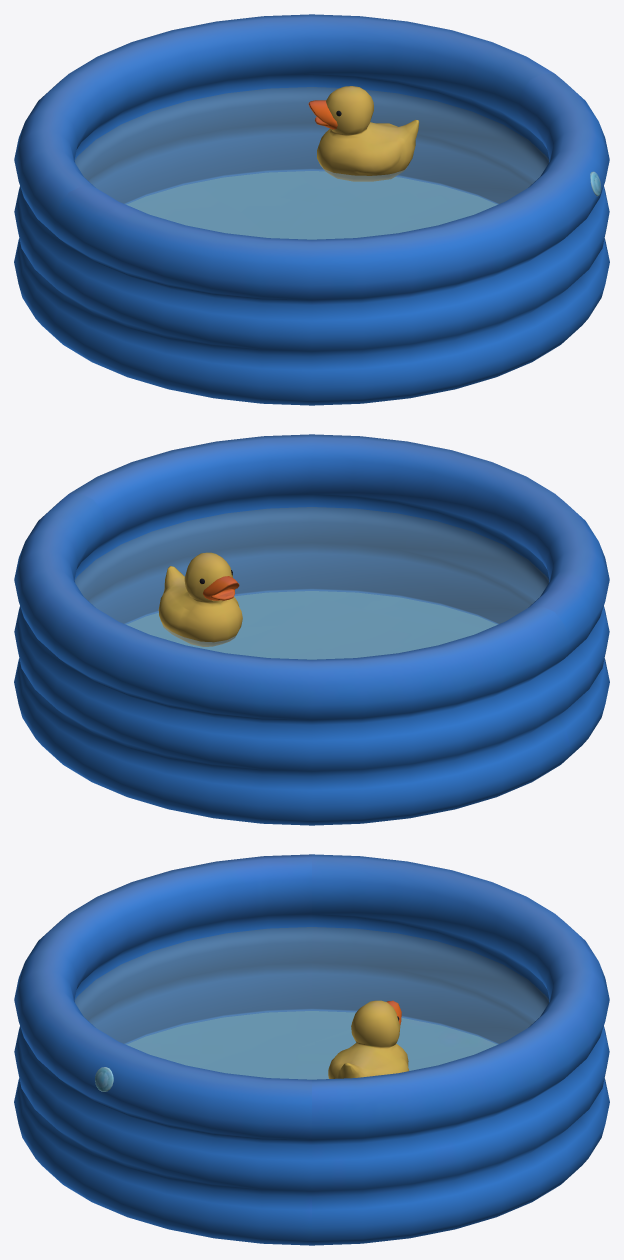
3 renders of one model, top to bottom at view 1: azimuth 30°, elevation 25°; view 2: azimuth 150°, elevation 25°; view 3: azimuth 270°, elevation 25°, orthographic.
Size of the model in its own units: 17.71 by 5.21 by 17.71.
Materials: 2 (1 with a texture image).
